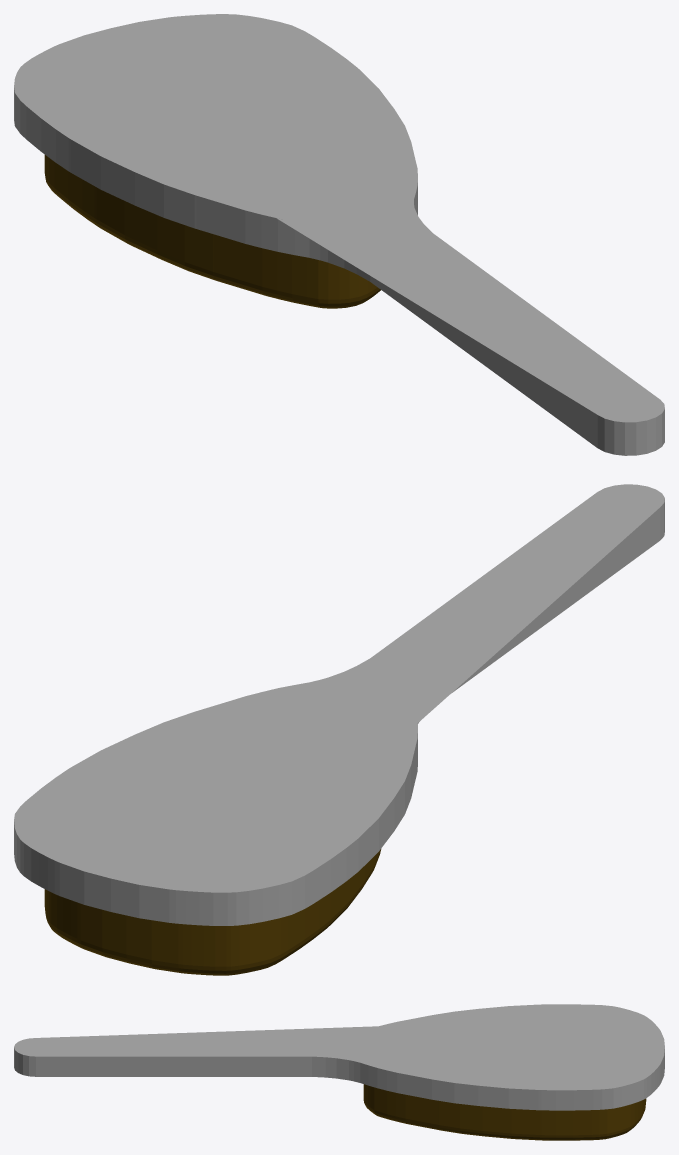
The model's file is Hairbrush.fbx.
3 views of the same model, one above another, from view 1: azimuth 30°, elevation 25°; view 2: azimuth 150°, elevation 25°; view 3: azimuth 270°, elevation 25° (orthographic). The views are drawn at different scales.
Parts seen in each view (by area): view 1: Body; view 2: Body; view 3: Body.
Boxes of the visible parts, <box> form: Body: <box>14,14,664,455</box>; Body: <box>14,484,664,975</box>; Body: <box>14,1004,664,1140</box>.
Bounding box in the file's own units: 101 × 33.55 × 322.
